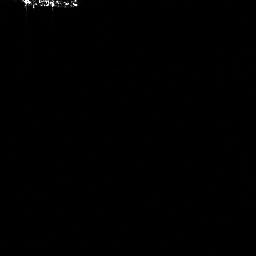ship: (15, 1, 84, 11)
